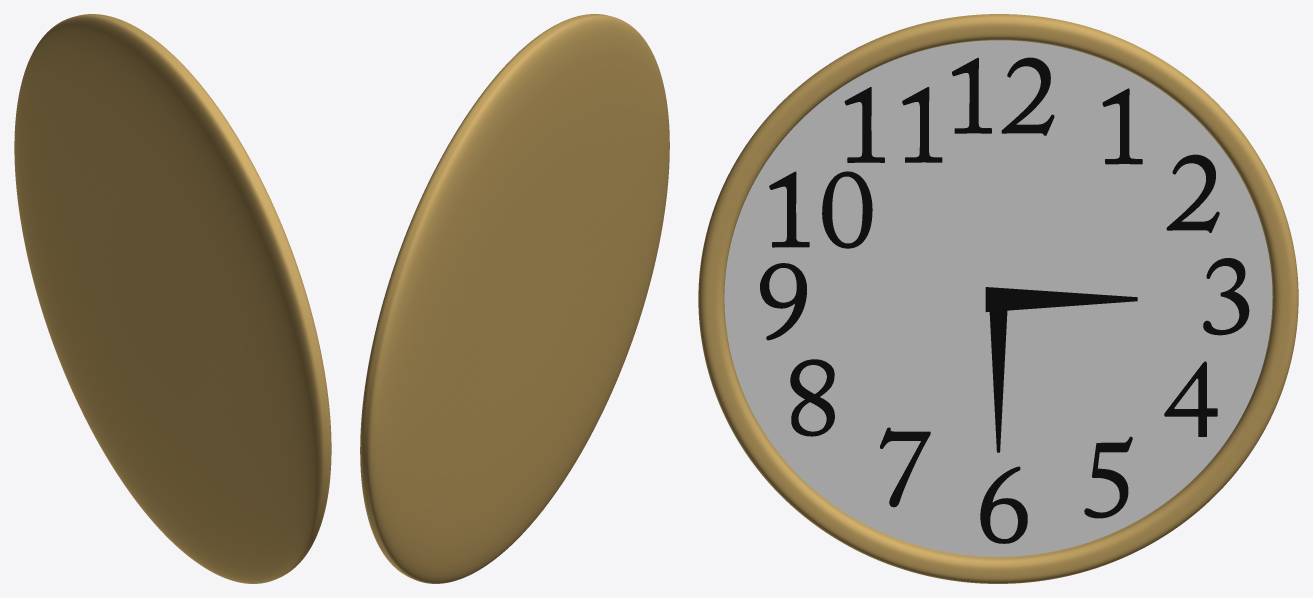
Rendered from Clock.fbx.
3 views of the same model, side by side, from view 1: azimuth 30°, elevation 25°; view 2: azimuth 150°, elevation 25°; view 3: azimuth 270°, elevation 25° (orthographic).
Parts seen in each view (by area): view 1: Case; view 2: Case; view 3: Clock face, Case, 10, 12, Minute hand, 11, 8, Hour hand, 6, 2, 9, 5 (+4 smaller).
Boxes of the visible parts, x1,y1,x2,y2 form: Case: (14,14,331,583); Case: (360,14,669,583); Clock face: (724,40,1272,556); Case: (698,14,1298,583); 10: (769,171,872,248); 12: (952,57,1054,135); Minute hand: (985,287,1137,311); 11: (844,87,942,162); 8: (790,359,834,436); Hour hand: (989,310,1007,452); 6: (980,466,1027,543); 2: (1166,154,1219,232); 9: (760,263,806,340); 5: (1084,436,1132,518).
Size of the model in its own units: 10.71 by 76.43 by 76.85.
